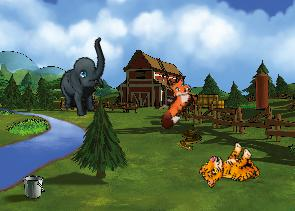elephant: (48, 37, 122, 120)
fox: (143, 70, 203, 132)
tiger: (195, 135, 265, 203)
